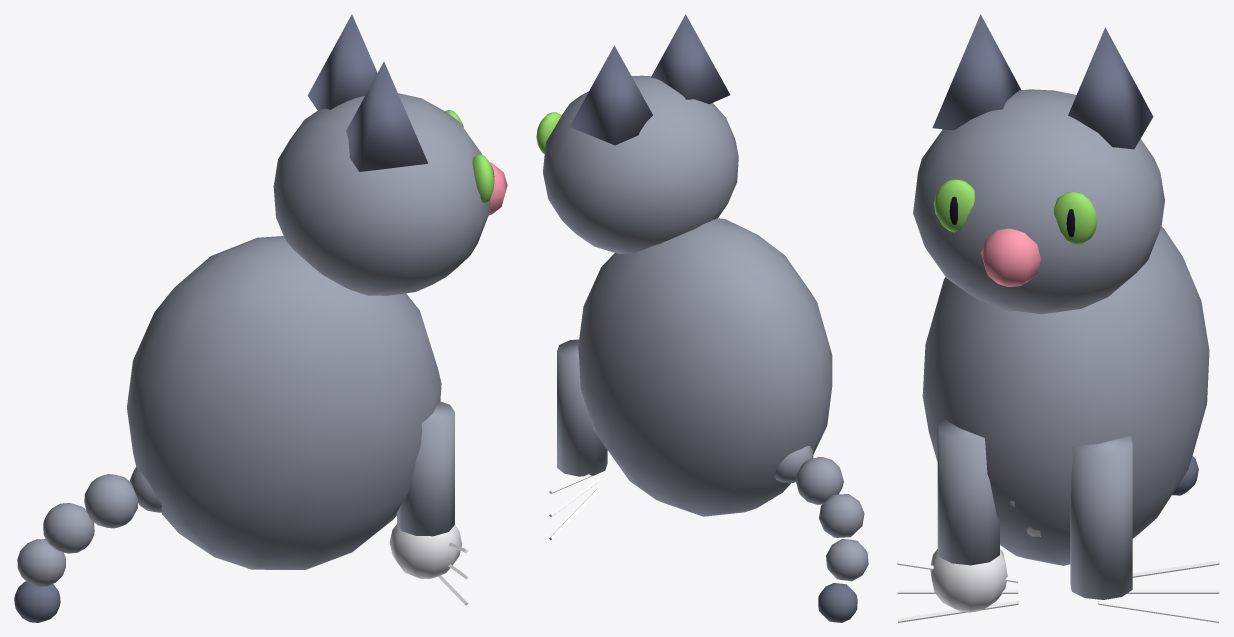
The model's file is kocka.glb.
The picture shows the model from 3 angles, left to right: view 1: azimuth 30°, elevation 25°; view 2: azimuth 150°, elevation 25°; view 3: azimuth 270°, elevation 25°; orthographic projection. The views are drawn at different scales.
Parts seen in each view (by area): view 1: Sphere, Sphere.002, Cylinder.006, Cone, Cone.001, Sphere.008, Sphere.010, Sphere.011, Sphere.012, Sphere.013, Sphere.004, Sphere.009; view 2: Sphere, Sphere.002, Cylinder.007, Cone.001, Cone, Sphere.010, Sphere.011, Sphere.012, Sphere.013, Sphere.009, Sphere.006; view 3: Sphere, Sphere.002, Cylinder.007, Cylinder.006, Cone.001, Cone, Sphere.008, Sphere.003, Sphere.006, Sphere.004, Cylinder.003, Cylinder (+2 smaller).
Part boxes in pixels (x1,y1,x2,y2): Sphere: (127, 236, 441, 569); Sphere.002: (273, 93, 490, 295); Cylinder.006: (397, 401, 454, 536); Cone: (346, 61, 428, 171); Cone.001: (307, 14, 377, 110); Sphere.008: (389, 524, 462, 578); Sphere.010: (84, 474, 137, 528); Sphere.011: (43, 503, 94, 553); Sphere.012: (17, 539, 65, 586); Sphere.013: (14, 581, 60, 622); Sphere.004: (472, 154, 494, 204); Sphere.009: (130, 467, 161, 512); Sphere: (578, 218, 832, 516); Sphere.002: (543, 75, 738, 253); Cylinder.007: (557, 339, 607, 476); Cone.001: (569, 45, 652, 145); Cone: (651, 14, 730, 104); Sphere.010: (795, 457, 843, 504); Sphere.011: (819, 494, 864, 537); Sphere.012: (826, 539, 868, 581); Sphere.013: (818, 583, 857, 622); Sphere.009: (774, 446, 813, 482); Sphere.006: (536, 112, 561, 153); Sphere: (922, 226, 1209, 565); Sphere.002: (913, 89, 1164, 314); Cylinder.007: (1070, 435, 1132, 599); Cylinder.006: (937, 419, 999, 565); Cone.001: (1068, 27, 1153, 149); Cone: (932, 14, 1021, 130); Sphere.008: (930, 549, 1007, 612); Sphere.003: (981, 228, 1040, 286); Sphere.006: (1054, 191, 1097, 244); Sphere.004: (934, 179, 974, 232); Cylinder.003: (1098, 600, 1219, 622); Cylinder: (897, 600, 1018, 622).
Size of the model in its own units: 0.6647 by 0.8518 by 0.401.
